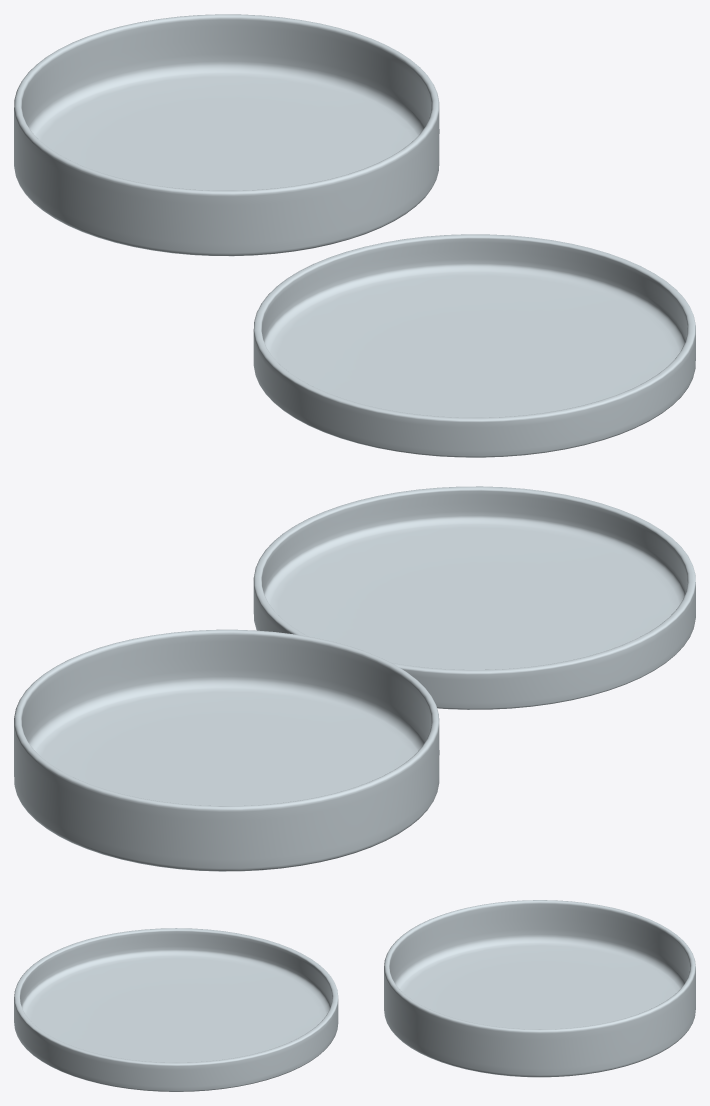
The model's file is Petri dish.glb.
The picture shows the model from 3 angles, top to bottom: view 1: azimuth 30°, elevation 25°; view 2: azimuth 150°, elevation 25°; view 3: azimuth 270°, elevation 25°; orthographic projection. The views are drawn at different scales.
Parts seen in each view (by area): view 1: Petri dish, LID; view 2: Petri dish, LID; view 3: Petri dish, LID.
Boxes of the visible parts, x1,y1,x2,y2 form: Petri dish: (14,14,439,256); LID: (253,234,695,457); Petri dish: (14,629,439,871); LID: (253,486,695,709); Petri dish: (384,900,695,1077); LID: (14,928,338,1091).
Bounding box in the file's own units: 0.0953 × 0.0192 × 0.2002.
Materials: 2 (2 with a texture image).
